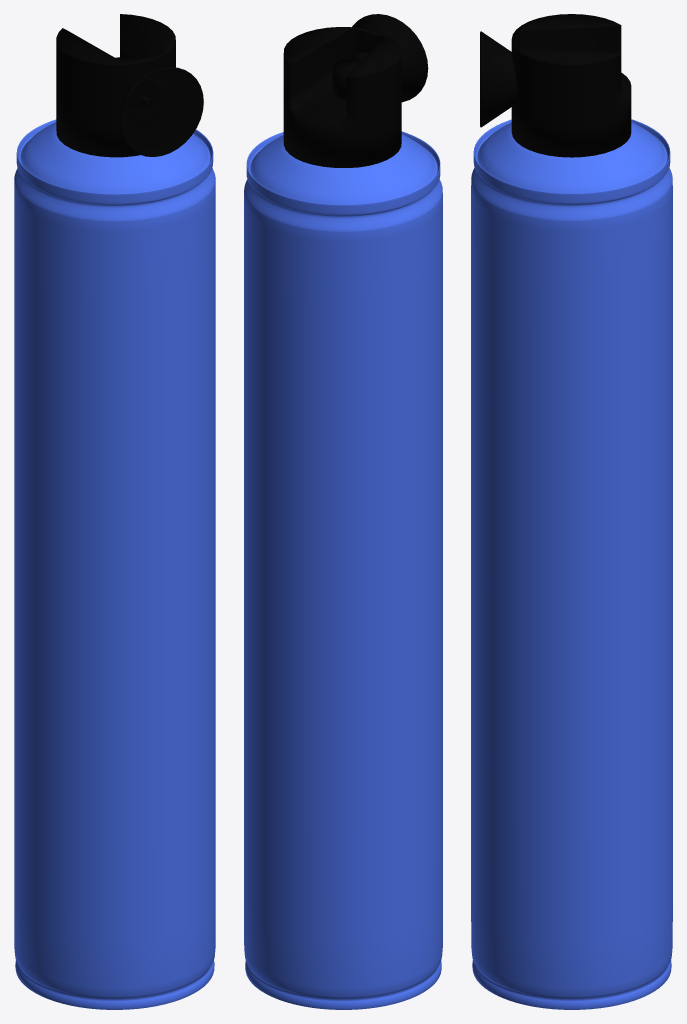
Rendered from uploads_files_2665974_untsprayitled.fbx.
3 renders of one model, left to right at view 1: azimuth 30°, elevation 25°; view 2: azimuth 150°, elevation 25°; view 3: azimuth 270°, elevation 25°, orthographic.
Parts seen in each view (by area): view 1: Cylinder, Cylinder.001, Cylinder.002; view 2: Cylinder, Cylinder.001, Cylinder.002, Cube; view 3: Cylinder, Cylinder.001, Cylinder.002.
Part boxes in pixels (x1,y1,x2,y2): Cylinder: (14, 119, 215, 1009); Cylinder.001: (56, 14, 175, 157); Cylinder.002: (120, 67, 203, 156); Cylinder: (244, 131, 442, 1009); Cylinder.001: (283, 27, 401, 167); Cylinder.002: (351, 14, 428, 102); Cube: (332, 59, 360, 99); Cylinder: (471, 119, 672, 1009); Cylinder.001: (511, 14, 631, 157); Cylinder.002: (480, 31, 516, 127).
Bounding box in the file's own units: 149 × 761 × 149.
